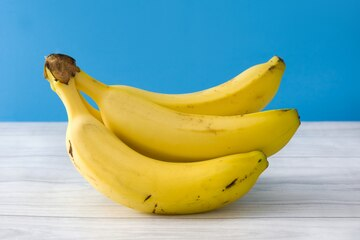banana: (41, 46, 305, 217)
